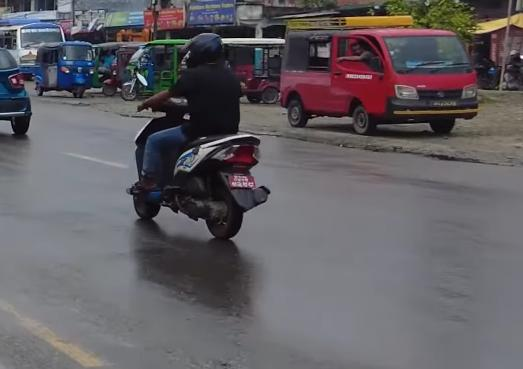auto_rickshaw: (34, 41, 99, 99)
scooter: (128, 74, 273, 250)
van: (279, 22, 483, 144)
